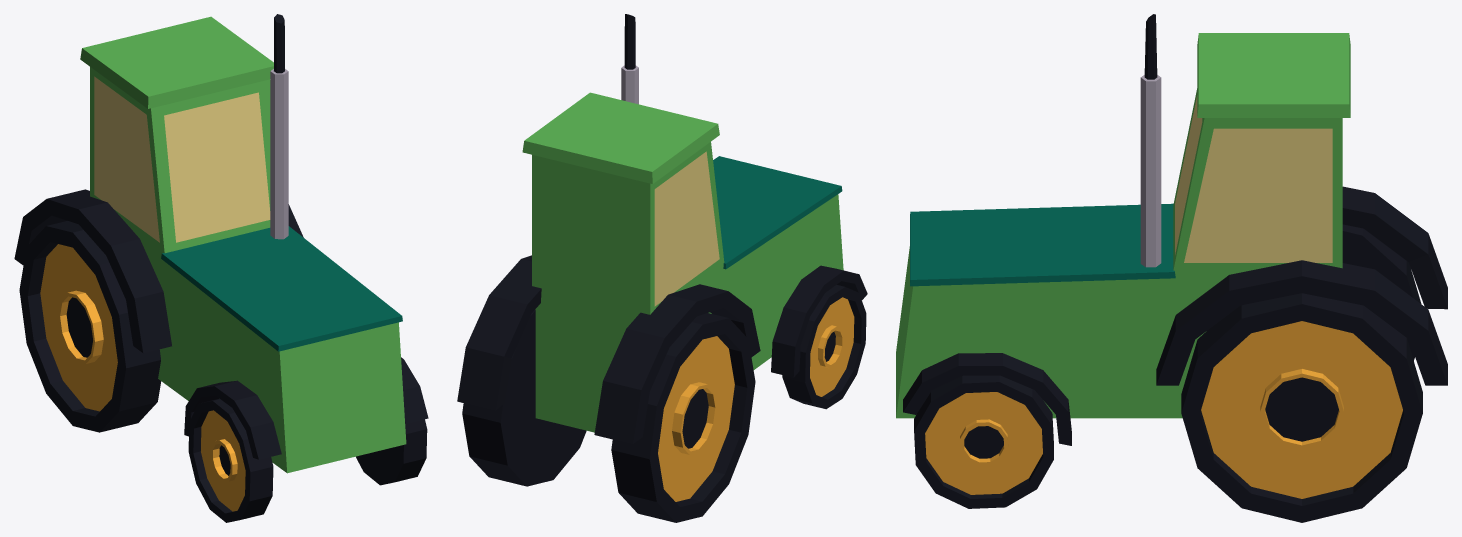
Rendered from tractor.fbx.
3 renders of one model, left to right at view 1: azimuth 30°, elevation 25°; view 2: azimuth 150°, elevation 25°; view 3: azimuth 270°, elevation 25°, orthographic. The views are drawn at different scales.
Parts seen in each view (by area): view 1: Cube, Cylinder; view 2: Cube, Cylinder; view 3: Cube, Cylinder.
Boxes of the visible parts, x1,y1,x2,y2 form: Cube: (14, 16, 428, 522); Cylinder: (270, 14, 288, 239); Cube: (457, 92, 867, 522); Cylinder: (621, 14, 638, 104); Cube: (896, 33, 1447, 522); Cylinder: (1140, 14, 1161, 267).
Bounding box in the file's own units: 317 × 681 × 708.
